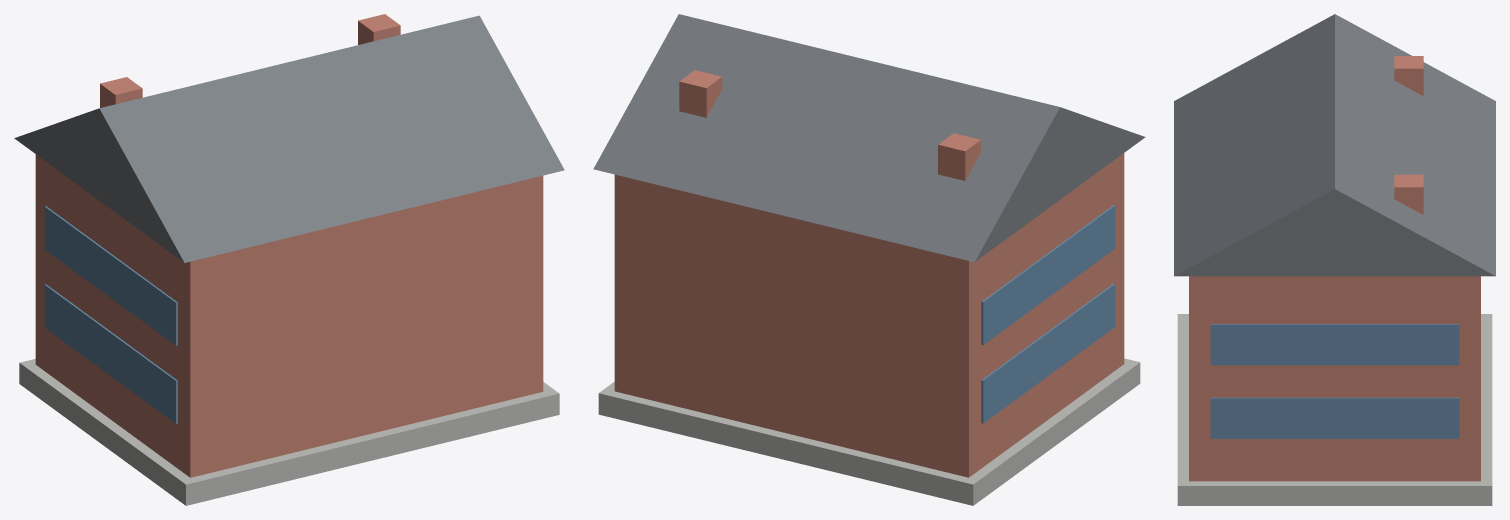
File: house_two_story_colonial.glb
The picture shows the model from 3 angles, left to right: view 1: azimuth 30°, elevation 25°; view 2: azimuth 150°, elevation 25°; view 3: azimuth 270°, elevation 25°; orthographic projection. The views are drawn at different scales.
Visible parts, largest first — view 1: house_two_story_colonial; view 2: house_two_story_colonial; view 3: house_two_story_colonial.
Boxes of the visible parts, bbox=[...] form: house_two_story_colonial: bbox=[14, 14, 564, 505]; house_two_story_colonial: bbox=[593, 14, 1145, 505]; house_two_story_colonial: bbox=[1174, 14, 1495, 505].
Bounding box in the file's own units: 11.2 × 9.5 × 8.7.
